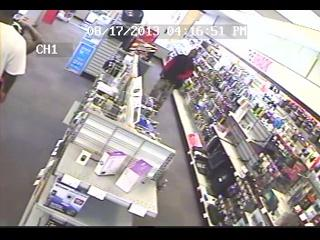Normal: (141, 48, 199, 120), (0, 18, 37, 108)
